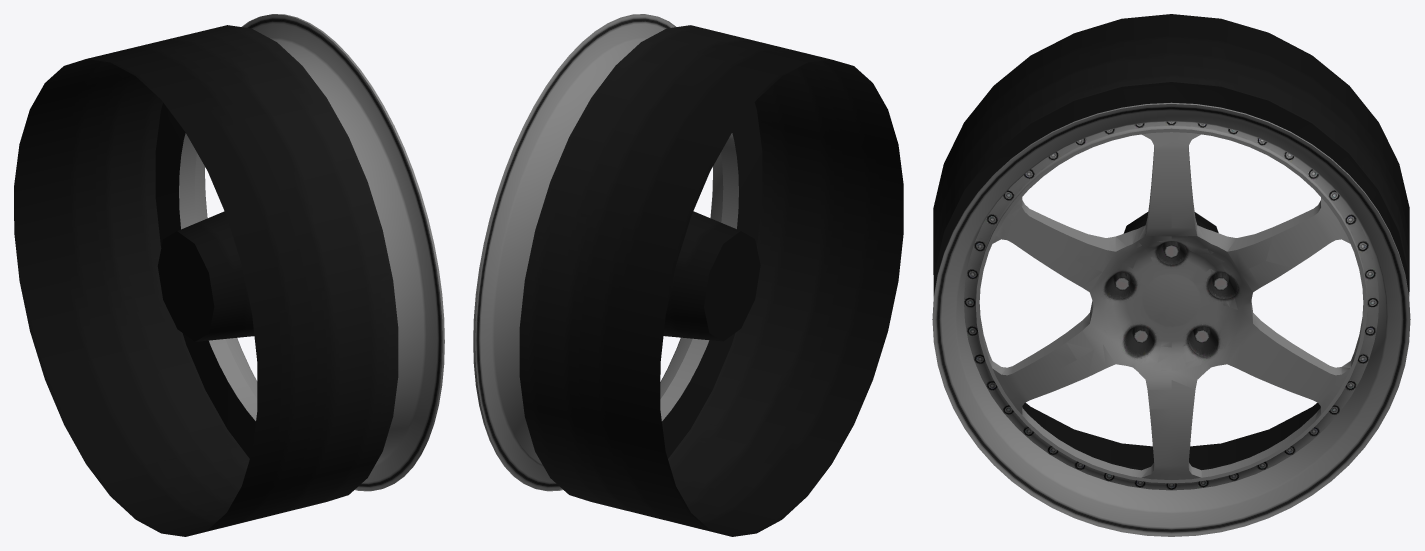
Rendered from wheel44.fbx.
3 renders of one model, left to right at view 1: azimuth 30°, elevation 25°; view 2: azimuth 150°, elevation 25°; view 3: azimuth 270°, elevation 25°, orthographic. The views are drawn at different scales.
Visible parts, largest first — view 1: hre_546r_wheel_wheel_inner_rim_, wheel_rim, hre_546r_wheel_wheel_rim_; view 2: hre_546r_wheel_wheel_inner_rim_, wheel_rim, hre_546r_wheel_wheel_rim_; view 3: wheel_rim, hre_546r_wheel_wheel_rim_, hre_546r_wheel_wheel_inner_rim_, hre_546r_wheel_wheel_chrome_rim_.
Part boxes in pixels (x1,y1,x2,y2): hre_546r_wheel_wheel_inner_rim_: (14, 25, 398, 536); wheel_rim: (179, 14, 444, 491); hre_546r_wheel_wheel_rim_: (179, 153, 425, 466); hre_546r_wheel_wheel_inner_rim_: (519, 25, 903, 536); wheel_rim: (473, 14, 723, 491); hre_546r_wheel_wheel_rim_: (484, 133, 738, 453); wheel_rim: (932, 102, 1410, 536); hre_546r_wheel_wheel_rim_: (979, 132, 1357, 479); hre_546r_wheel_wheel_inner_rim_: (933, 14, 1409, 470); hre_546r_wheel_wheel_chrome_rim_: (1113, 241, 1229, 343).
Size of the model in its own units: 0.2177 by 0.4931 by 0.4921.
1 material, 1 textured.
